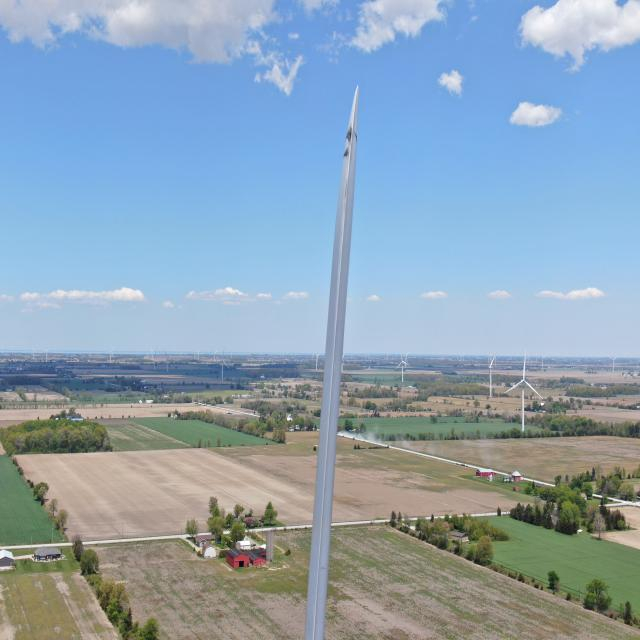damage: (338, 110, 356, 166)
